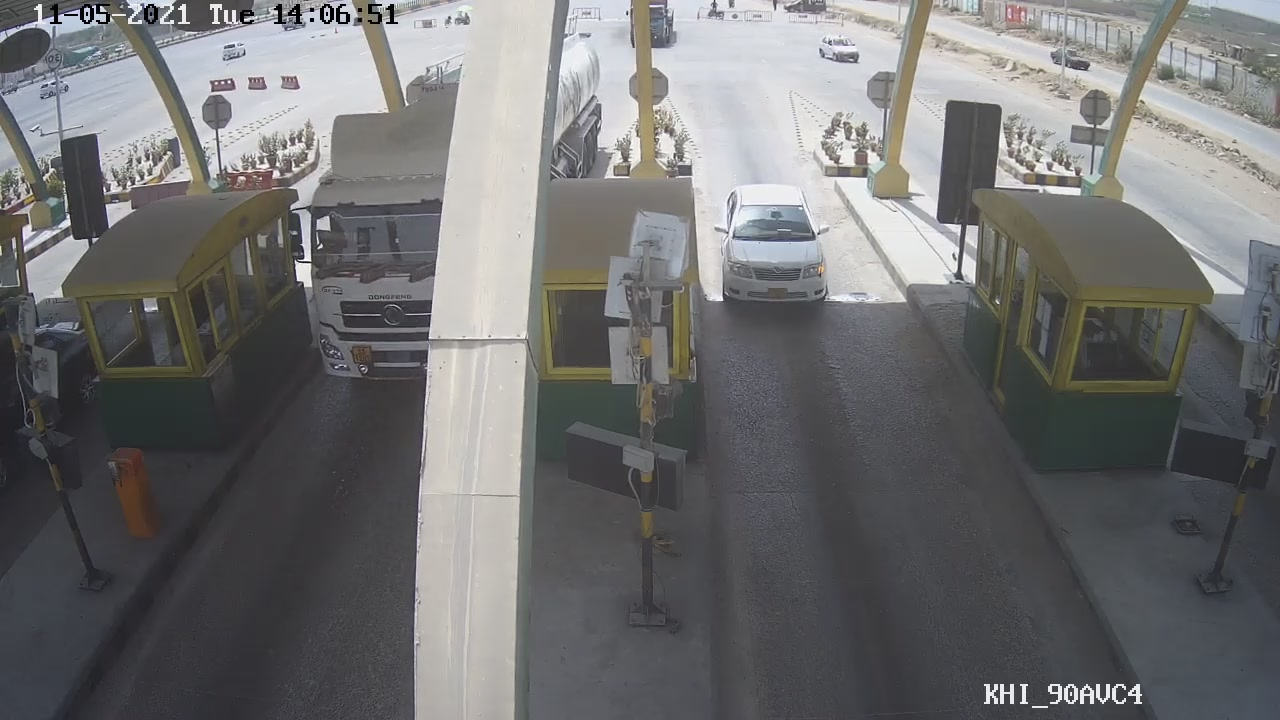F1: (707, 177, 844, 319)
